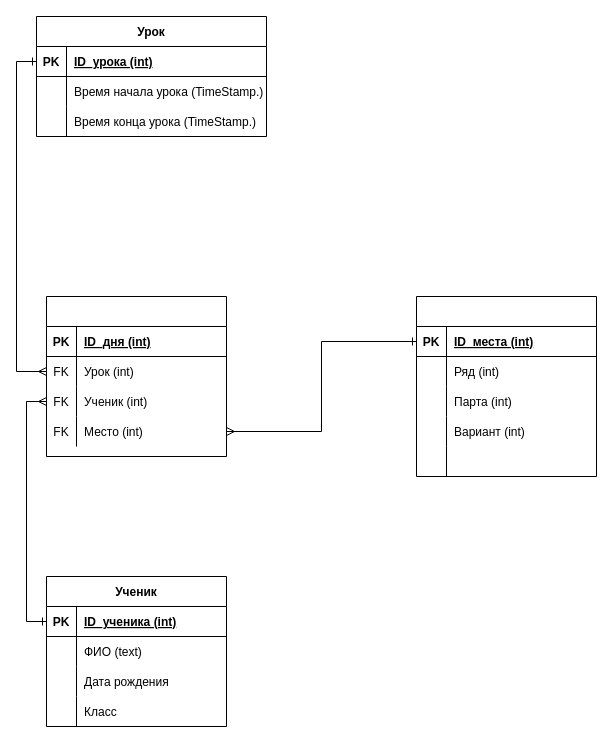
This 613x743 diagram has some shape labels left out. The shapes that lost their labels are listed below. From the top down, each one's box as (x1, y1, x2, y2) in pixels, then its label:
(46, 296, 226, 456): День
(416, 296, 596, 476): Место
